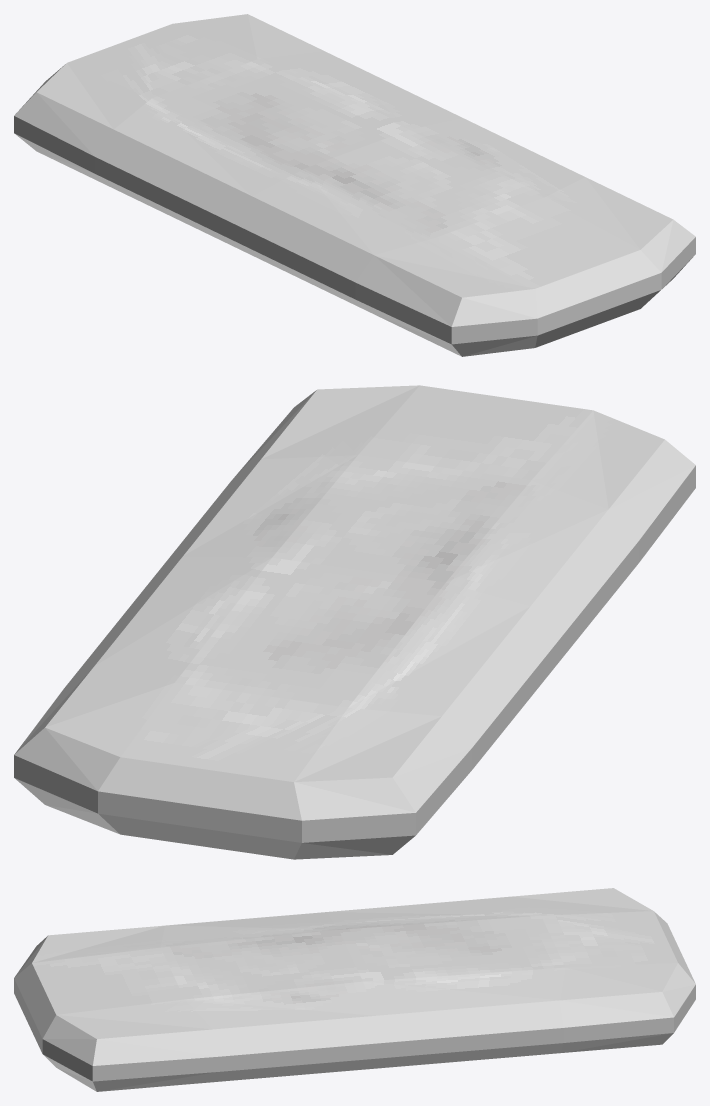
Rendered from pillow.obj.
3 renders of one model, top to bottom at view 1: azimuth 30°, elevation 25°; view 2: azimuth 150°, elevation 25°; view 3: azimuth 270°, elevation 25°, orthographic. The views are drawn at different scales.
Parts seen in each view (by area): view 1: pCube11_1_pCube11_1.001; view 2: pCube11_1_pCube11_1.001; view 3: pCube11_1_pCube11_1.001.
Boxes of the visible parts, bbox=[...] form: pCube11_1_pCube11_1.001: bbox=[14, 14, 695, 356]; pCube11_1_pCube11_1.001: bbox=[14, 385, 695, 859]; pCube11_1_pCube11_1.001: bbox=[14, 888, 695, 1091].
Size of the model in its own units: 0.4638 by 0.0775 by 0.7923.
